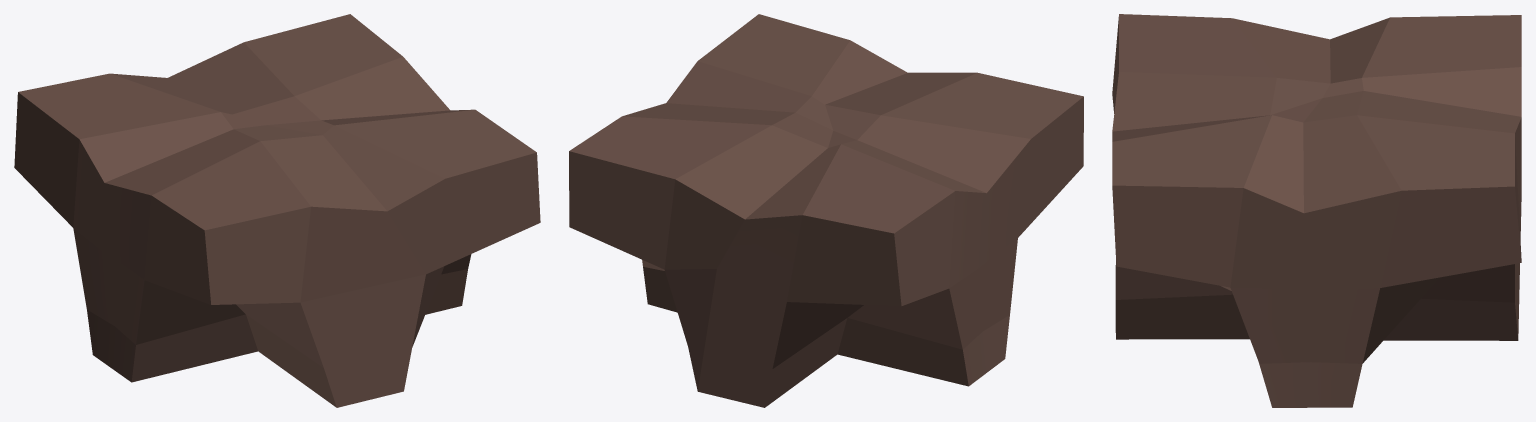
Rendered from Cave_Ceiling_Corner_4_Sided.fbx.
The picture shows the model from 3 angles, left to right: view 1: azimuth 30°, elevation 25°; view 2: azimuth 150°, elevation 25°; view 3: azimuth 270°, elevation 25°; orthographic projection. The views are drawn at different scales.
Visible parts, largest first — view 1: Cave_Ceiling_Corner_4_Sided; view 2: Cave_Ceiling_Corner_4_Sided; view 3: Cave_Ceiling_Corner_4_Sided.
Part boxes in pixels (x1,y1,x2,y2): Cave_Ceiling_Corner_4_Sided: (14,14,540,407); Cave_Ceiling_Corner_4_Sided: (569,14,1083,407); Cave_Ceiling_Corner_4_Sided: (1112,14,1521,407).
Size of the model in its own units: 5.09 by 4.99 by 3.04.
